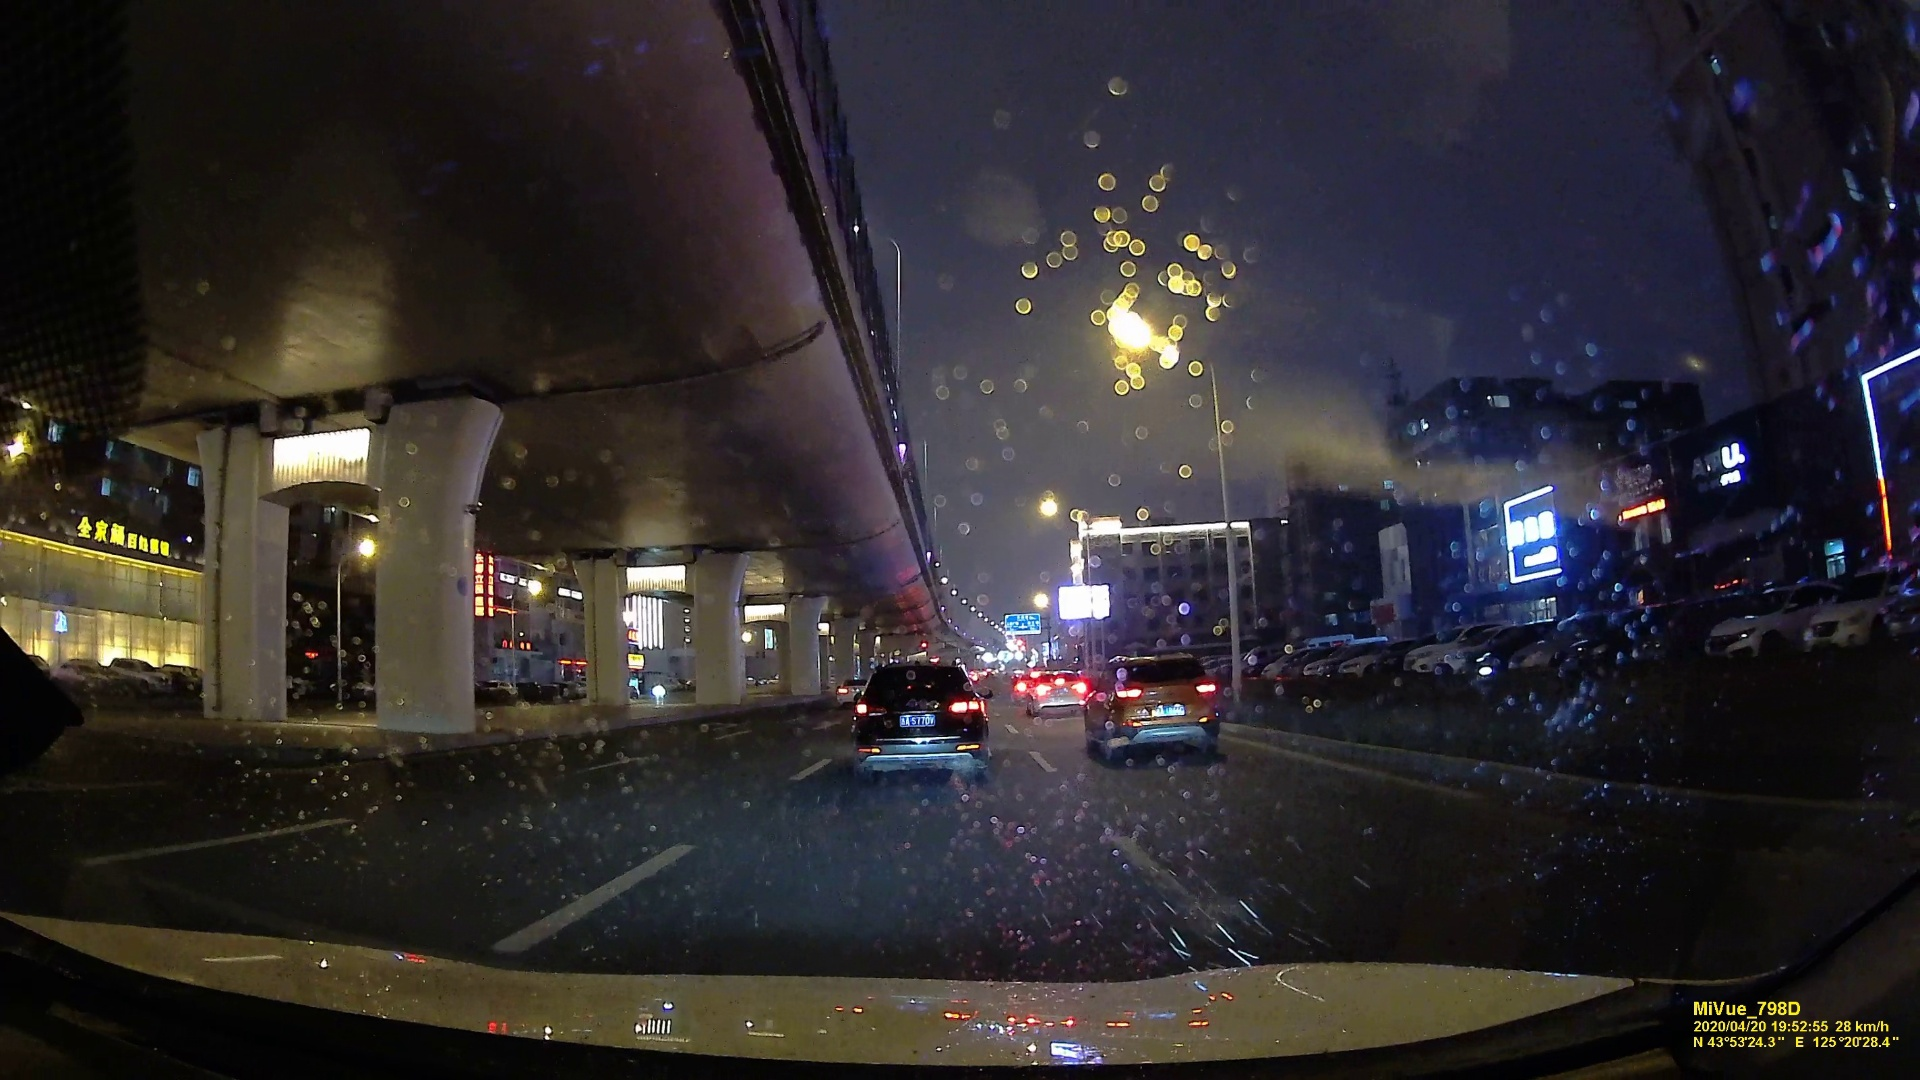traffic_sign: (1004, 615, 1040, 634)
vehicle: (855, 665, 988, 774), (1085, 655, 1215, 760), (1026, 669, 1085, 719), (837, 676, 865, 704)
